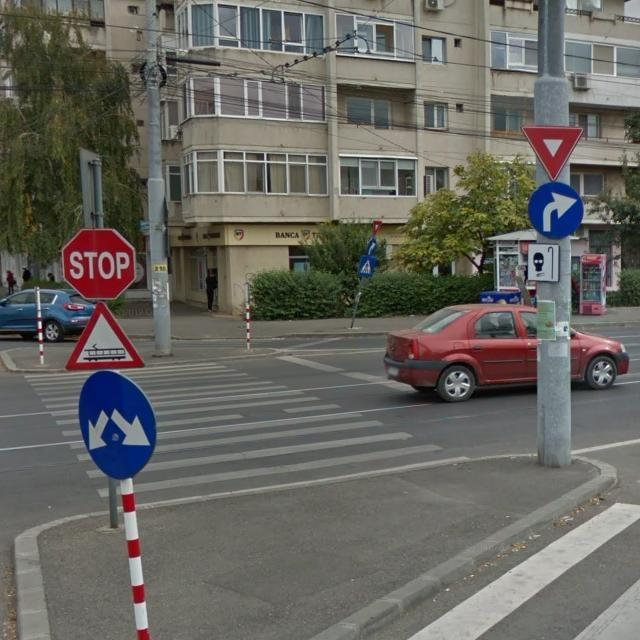info_crosswalk: (356, 255, 378, 277)
prio_give_way: (521, 124, 583, 182), (372, 220, 382, 238)
prio_stop: (63, 226, 137, 302)
